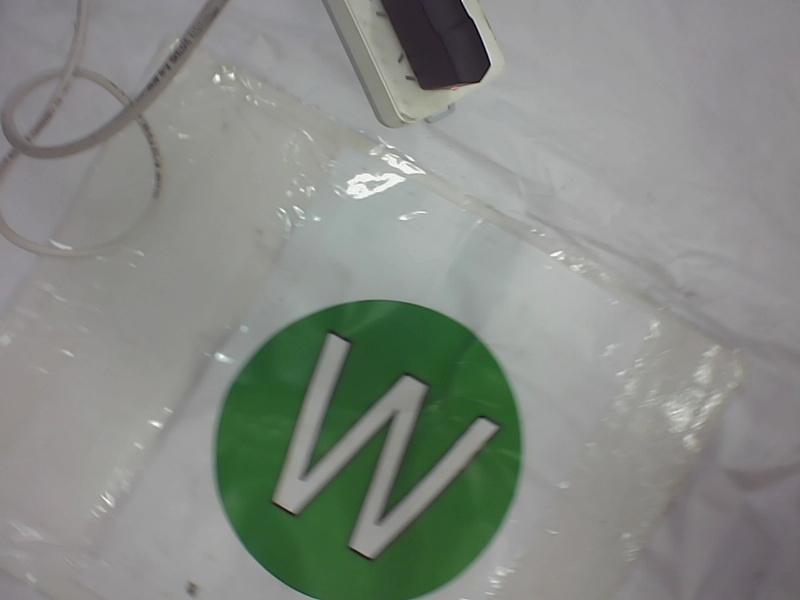areaB: (206, 295, 529, 596)
